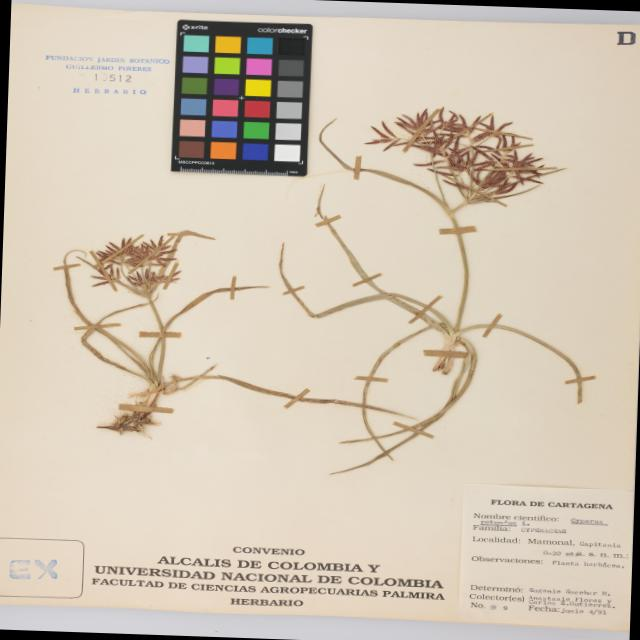cyperus: (350, 97, 580, 224), (63, 216, 217, 305)
